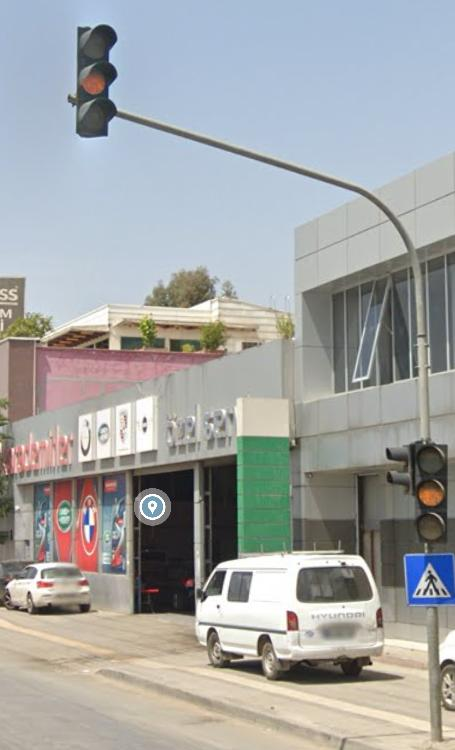yellowlight: (409, 438, 451, 544), (79, 24, 114, 134)
